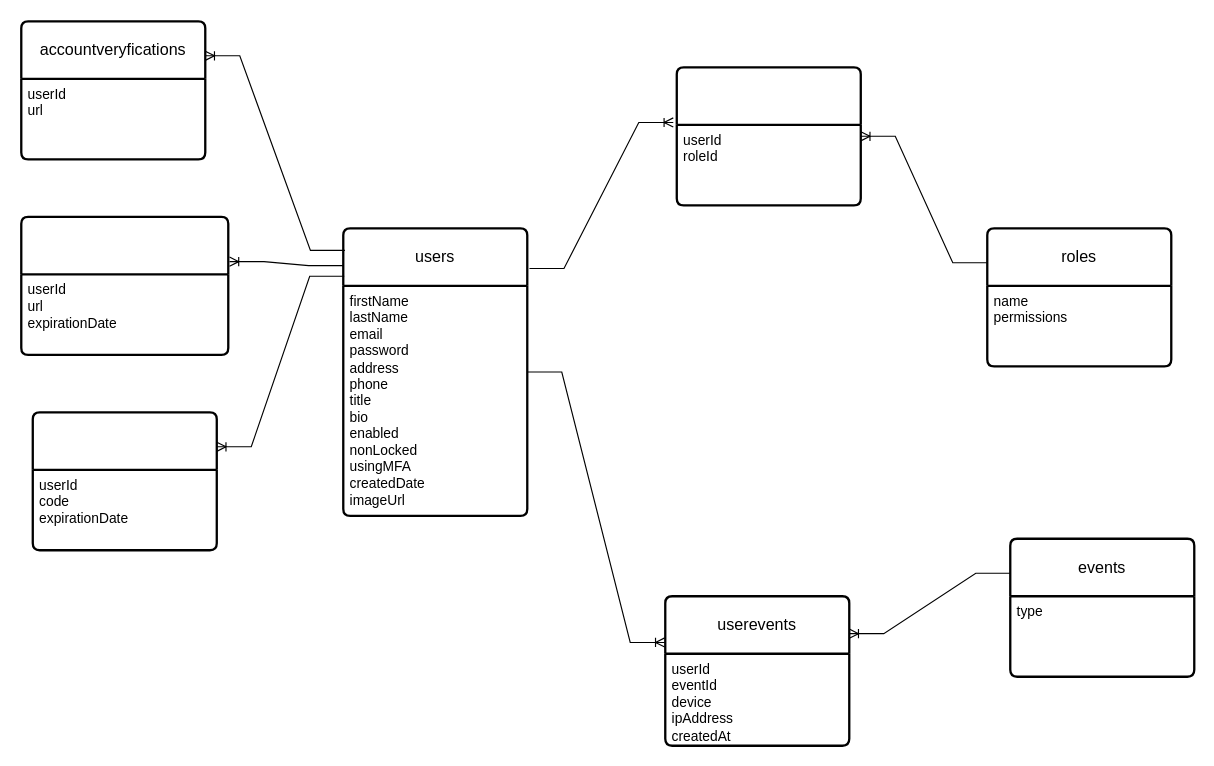
This 1214x766 diagram has some shape labels left out. Each missing label, with the box of its shape:
resetpasswordveryfications: (20, 215, 229, 355)
twofactorveryfications: (31, 411, 217, 551)
userroles: (675, 66, 861, 206)
